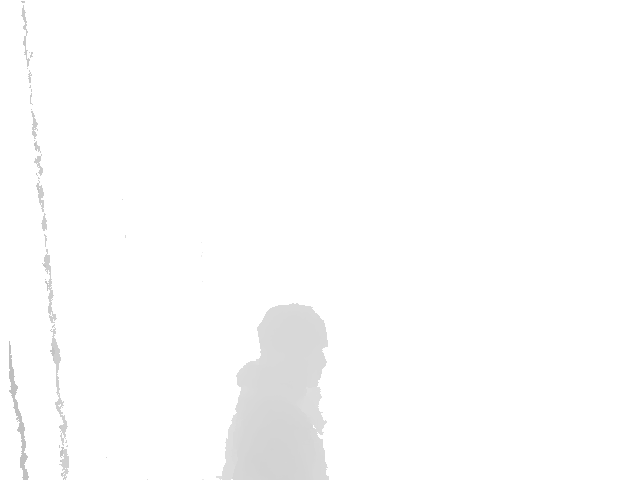head: (257, 302, 328, 382)
person: (219, 302, 330, 480)
